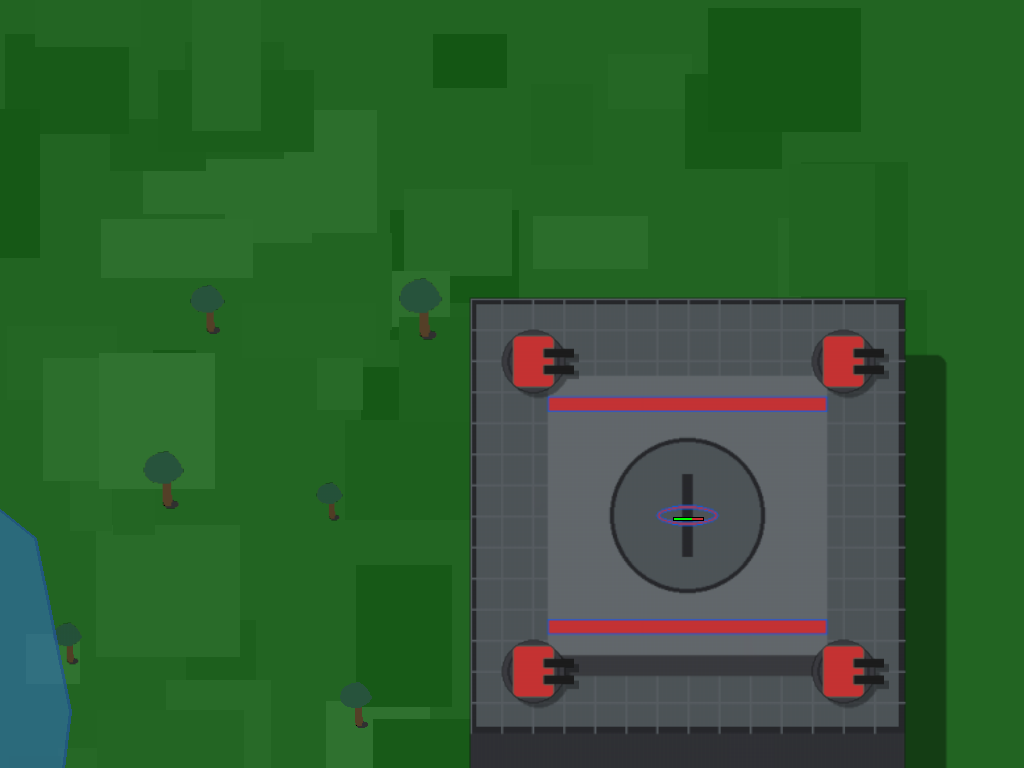Bastion: (433, 262, 804, 768)
Lake: (0, 416, 70, 768)
